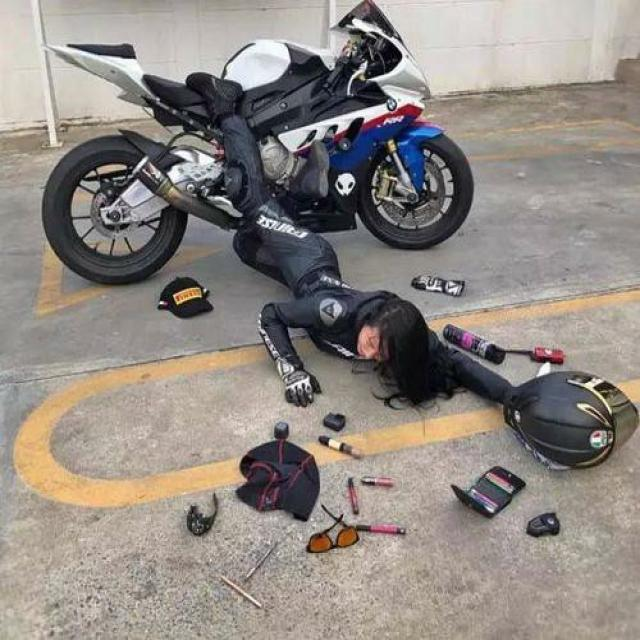fall: (207, 103, 461, 412)
